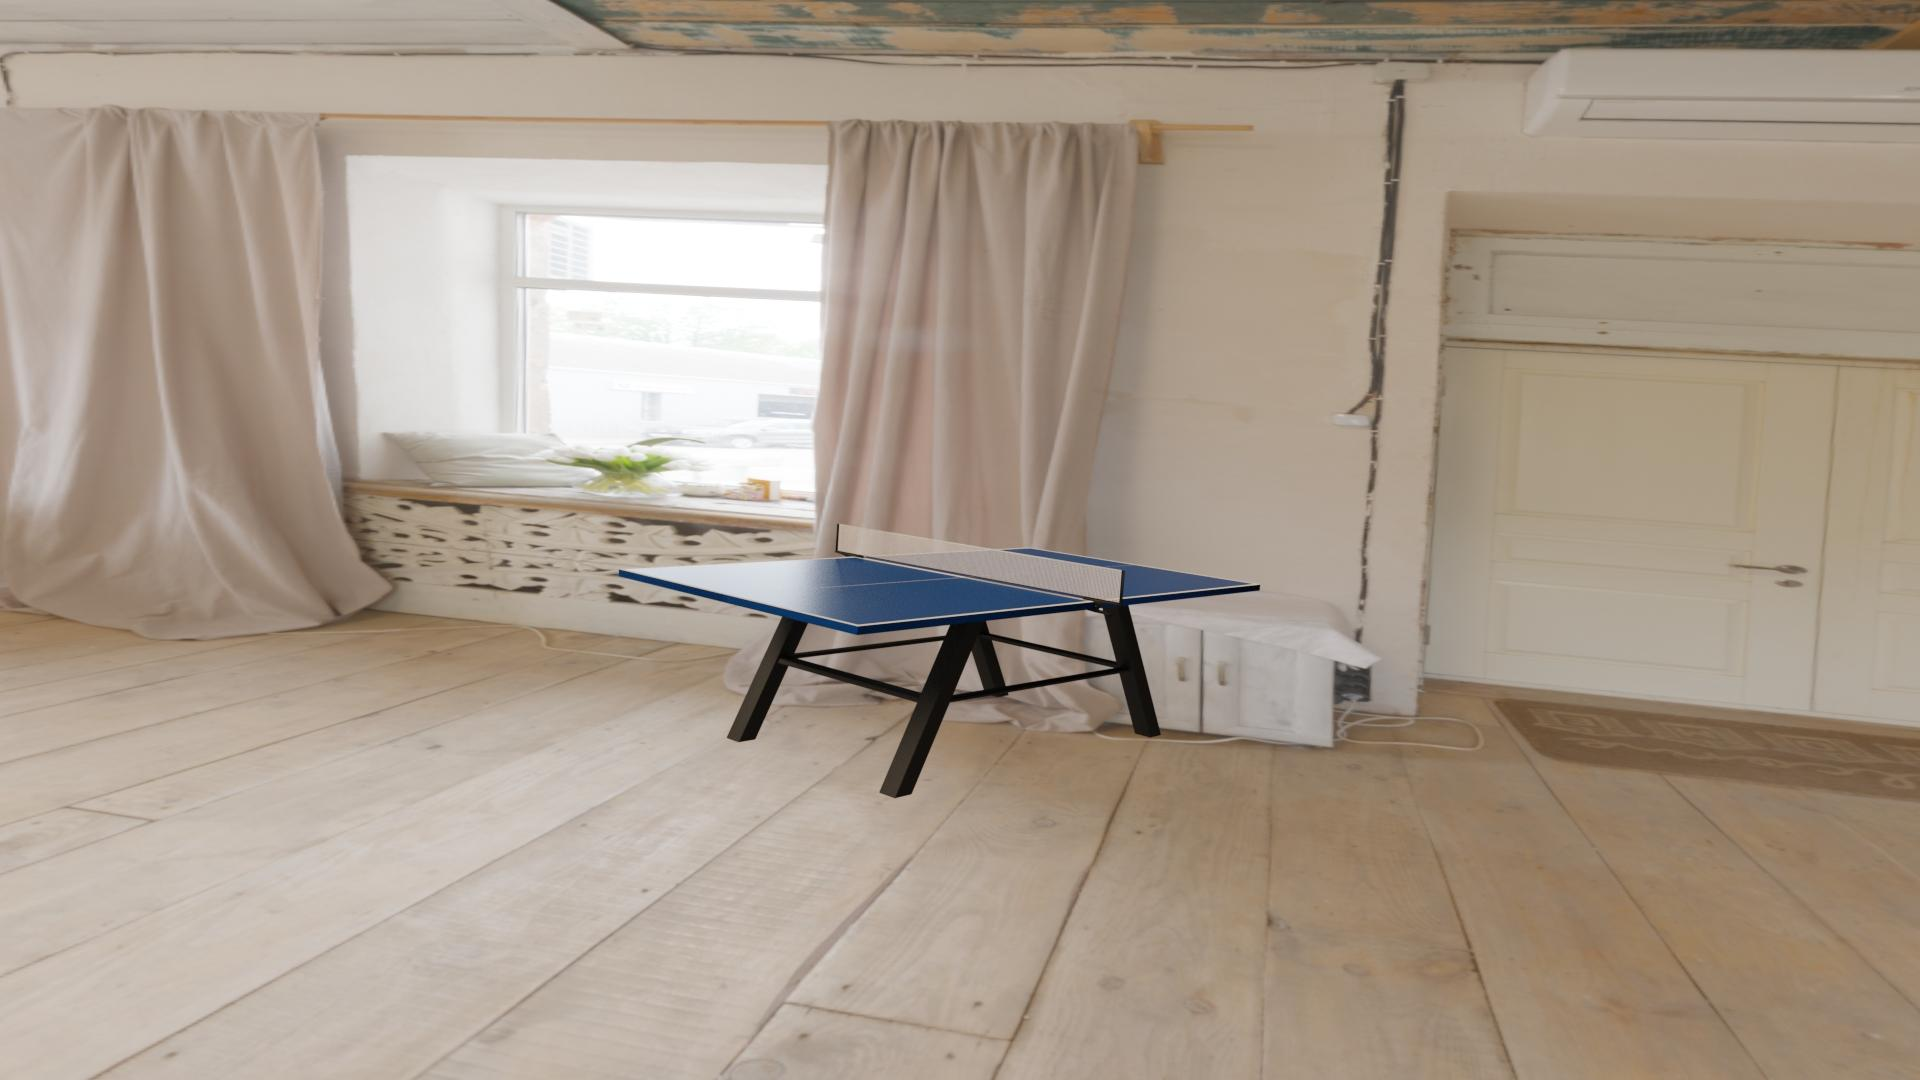table: (625, 549, 1255, 625)
